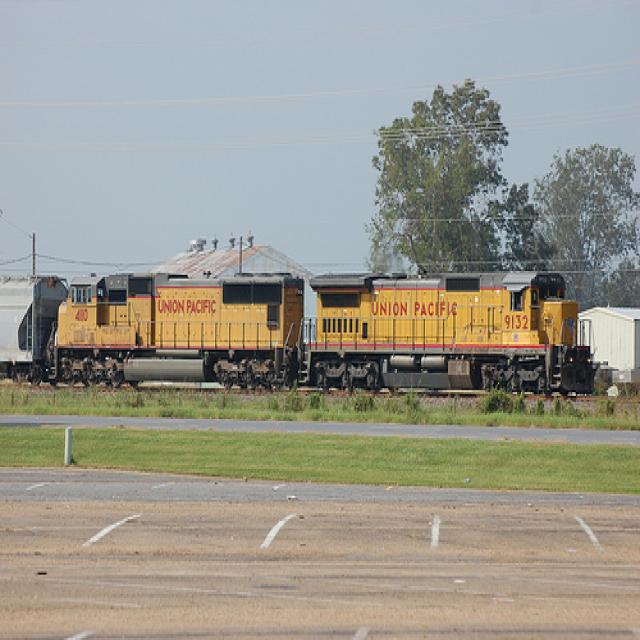hopper: (0, 264, 56, 382)
locomotive: (310, 255, 601, 406), (51, 254, 311, 397)
